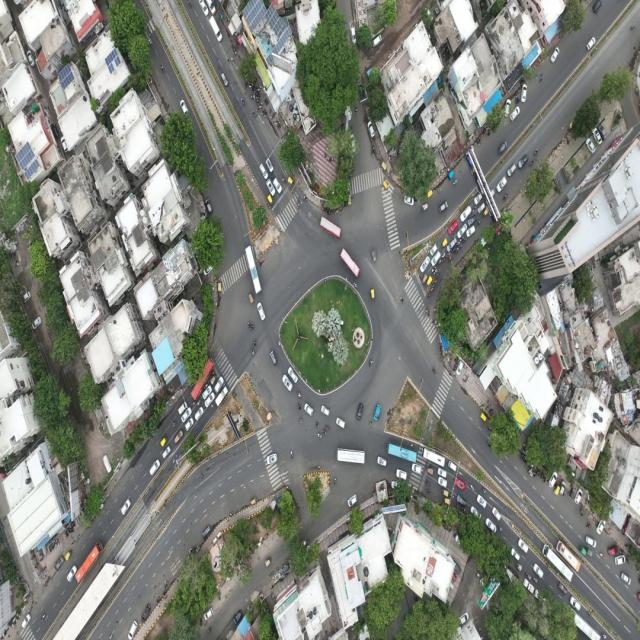3W: (565, 117, 578, 135), (477, 406, 488, 425), (264, 551, 273, 572), (160, 432, 169, 451), (247, 289, 256, 308), (440, 235, 451, 249), (249, 493, 258, 510), (266, 192, 275, 209), (381, 179, 391, 194), (64, 547, 73, 563), (580, 544, 589, 560), (381, 157, 388, 177), (569, 486, 577, 503), (447, 169, 456, 184), (370, 287, 377, 306), (441, 487, 451, 500), (426, 275, 434, 290), (216, 278, 223, 295), (287, 175, 296, 188), (585, 548, 594, 561), (425, 465, 434, 477), (421, 271, 428, 286), (553, 482, 560, 497), (209, 373, 217, 386), (426, 188, 434, 200), (483, 206, 490, 219), (443, 497, 452, 507)
Bus: (537, 544, 575, 585), (191, 345, 217, 403), (74, 541, 105, 588), (242, 240, 264, 296), (555, 537, 583, 574), (334, 441, 368, 469), (385, 438, 419, 464), (318, 211, 346, 242), (420, 444, 448, 472), (339, 245, 361, 277)
Cars: (139, 600, 153, 624), (280, 373, 295, 395), (618, 568, 634, 588), (66, 563, 79, 587), (148, 455, 161, 478), (446, 213, 459, 236), (516, 534, 530, 555), (20, 611, 33, 633), (458, 204, 473, 223), (127, 617, 139, 640), (485, 513, 497, 536), (419, 254, 432, 275), (346, 491, 360, 510), (549, 44, 561, 66), (598, 117, 609, 141), (455, 490, 468, 510), (400, 193, 416, 209), (507, 104, 522, 121), (371, 399, 382, 422), (120, 495, 132, 516), (174, 426, 186, 447), (286, 365, 299, 384), (517, 152, 530, 171), (200, 522, 212, 542), (266, 176, 276, 200), (586, 35, 598, 55), (570, 594, 582, 614), (319, 401, 332, 419), (197, 0, 210, 18), (205, 0, 218, 18), (357, 76, 366, 102), (370, 32, 383, 50), (219, 67, 229, 90), (592, 125, 602, 148), (53, 553, 65, 572), (584, 136, 596, 155), (456, 220, 468, 239), (595, 516, 607, 535), (394, 467, 409, 482), (374, 454, 389, 469), (592, 0, 605, 17), (557, 581, 570, 598), (477, 493, 490, 510), (194, 403, 205, 423), (214, 373, 225, 393), (203, 194, 214, 214), (510, 544, 522, 562), (257, 301, 267, 322), (179, 96, 189, 117), (181, 405, 192, 424), (534, 561, 545, 580), (201, 604, 214, 620), (333, 413, 346, 429), (437, 199, 450, 215), (454, 476, 467, 492), (368, 116, 377, 139), (446, 237, 458, 254), (349, 22, 357, 47), (503, 96, 511, 121), (258, 163, 269, 181), (348, 132, 357, 154), (496, 139, 507, 157), (547, 472, 558, 490), (584, 534, 598, 548), (470, 504, 482, 520), (232, 608, 242, 627), (492, 505, 502, 524), (266, 452, 279, 466), (204, 393, 216, 408), (269, 349, 278, 369), (615, 552, 627, 567), (161, 445, 172, 461), (506, 161, 517, 177), (607, 543, 618, 559), (304, 401, 314, 418), (410, 462, 423, 475), (357, 401, 365, 422), (520, 84, 528, 105), (495, 179, 509, 191), (465, 214, 477, 228), (265, 156, 275, 172), (455, 361, 465, 377), (436, 467, 448, 480), (274, 178, 283, 195), (473, 190, 483, 205), (466, 224, 476, 239), (429, 240, 439, 255), (432, 252, 442, 267), (573, 490, 583, 505), (447, 460, 458, 473), (185, 419, 195, 433), (438, 476, 448, 490), (202, 385, 211, 399), (559, 477, 565, 497), (478, 201, 487, 214)
LCV: (207, 11, 224, 45), (214, 385, 229, 408), (522, 575, 535, 595), (370, 244, 379, 267), (177, 401, 189, 416)
M2W: (399, 287, 406, 309), (367, 356, 375, 371), (187, 543, 194, 560), (296, 413, 304, 427), (160, 59, 166, 75), (161, 577, 169, 589), (350, 279, 359, 289), (585, 607, 593, 618), (295, 400, 302, 412), (525, 572, 533, 582), (147, 34, 153, 47), (475, 134, 481, 147), (631, 21, 636, 36), (431, 364, 437, 376), (497, 523, 503, 535), (367, 420, 373, 432), (40, 612, 47, 622), (146, 25, 153, 35), (533, 148, 540, 158), (332, 474, 337, 487), (448, 491, 456, 499), (528, 158, 535, 167), (532, 575, 539, 584), (314, 421, 321, 430), (295, 390, 302, 399), (171, 420, 177, 430), (239, 97, 245, 107), (260, 107, 266, 117), (354, 105, 359, 117), (478, 135, 484, 145), (502, 192, 508, 202), (476, 218, 482, 228), (481, 485, 487, 495), (470, 482, 476, 492), (202, 383, 209, 391), (598, 552, 605, 560), (453, 501, 460, 509), (316, 433, 324, 440), (281, 175, 287, 184), (302, 194, 308, 203), (486, 130, 492, 139), (430, 265, 436, 274), (321, 428, 327, 437), (55, 537, 60, 547), (196, 399, 201, 409), (269, 170, 274, 180), (453, 178, 458, 188), (486, 439, 491, 449), (30, 553, 36, 561), (48, 544, 52, 556), (250, 344, 254, 356), (250, 110, 256, 118), (459, 236, 465, 244), (618, 547, 624, 555), (459, 506, 467, 512), (207, 626, 213, 634), (64, 530, 69, 539), (67, 526, 72, 535), (267, 108, 272, 117), (441, 249, 446, 258), (441, 256, 446, 265), (586, 521, 591, 530), (624, 542, 629, 551), (601, 631, 606, 640), (53, 538, 57, 549), (251, 320, 255, 331), (34, 562, 40, 569), (71, 521, 77, 528), (191, 400, 197, 407), (253, 340, 259, 347), (296, 201, 302, 208), (436, 259, 442, 266), (425, 481, 431, 488), (425, 487, 431, 494), (50, 541, 54, 551), (210, 371, 215, 379), (247, 320, 251, 330), (259, 101, 264, 109), (472, 205, 476, 215), (451, 246, 456, 254), (431, 281, 435, 291), (187, 0, 191, 9), (250, 86, 256, 92), (249, 94, 255, 100), (255, 98, 261, 104), (263, 110, 267, 119), (274, 118, 280, 124), (372, 145, 376, 154), (447, 257, 453, 263), (445, 253, 451, 259), (433, 268, 437, 277), (436, 319, 439, 331), (70, 527, 75, 534), (252, 88, 257, 95), (257, 85, 262, 92), (514, 101, 521, 106), (424, 309, 431, 314), (325, 425, 330, 432), (531, 461, 534, 472), (370, 149, 374, 157), (541, 470, 545, 478), (581, 499, 583, 514), (233, 49, 237, 56), (244, 81, 248, 88), (271, 113, 275, 120), (521, 454, 525, 461), (543, 478, 547, 485), (520, 452, 523, 461), (249, 82, 254, 87), (463, 238, 467, 244), (456, 249, 460, 255), (436, 273, 439, 281), (543, 473, 546, 481), (266, 100, 269, 107), (523, 456, 526, 463), (254, 93, 260, 96), (516, 91, 519, 97), (537, 470, 540, 476), (277, 124, 281, 128), (455, 241, 460, 244), (265, 98, 267, 105), (534, 473, 537, 476), (458, 246, 462, 248)
